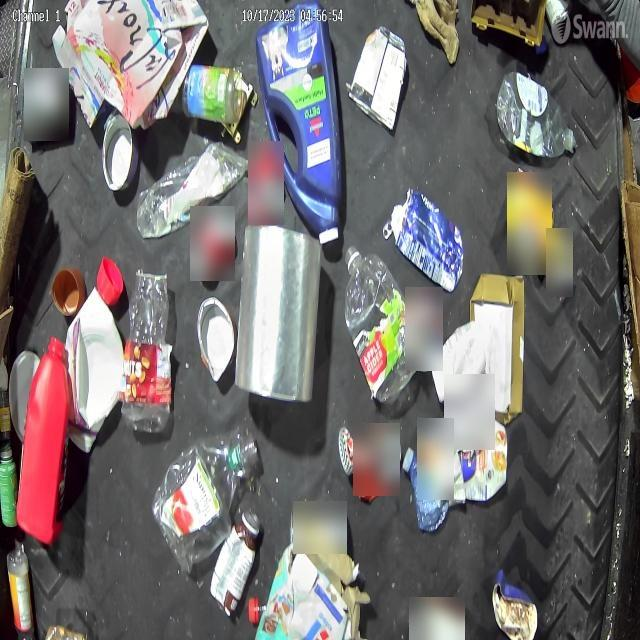non_white_jug: (256, 0, 344, 243), (15, 335, 72, 545)
plastic_bottle: (152, 424, 262, 568), (343, 240, 421, 403), (494, 71, 574, 161)
